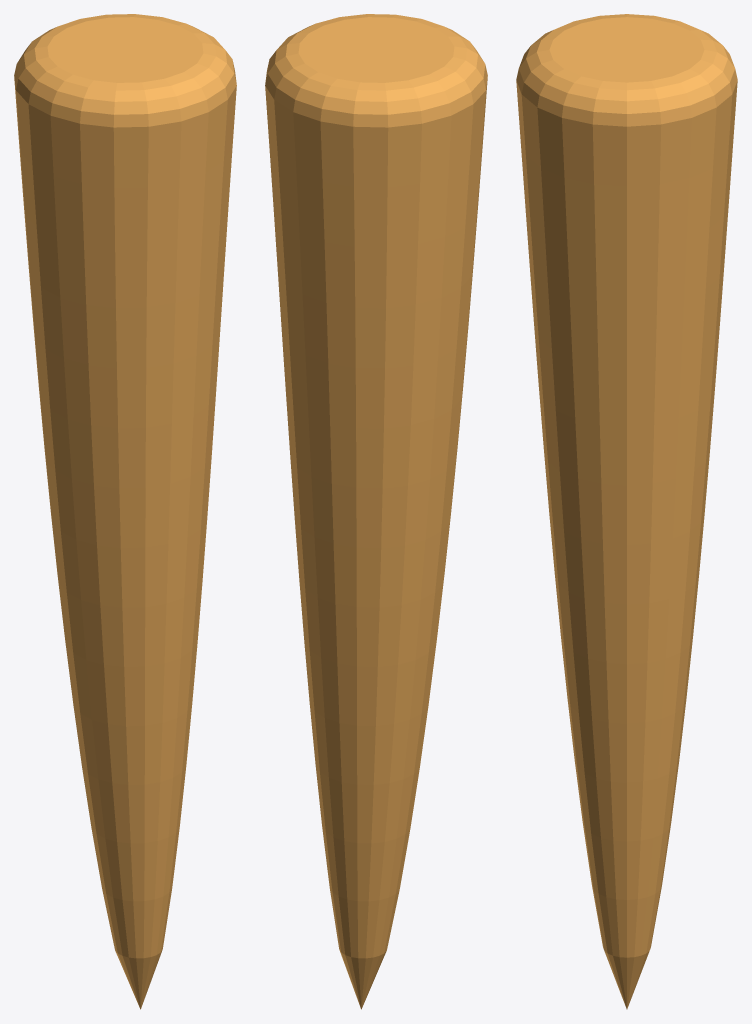
Rendered from carrot_v17.glb.
3 renders of one model, left to right at view 1: azimuth 30°, elevation 25°; view 2: azimuth 150°, elevation 25°; view 3: azimuth 270°, elevation 25°, orthographic.
Parts seen in each view (by area): view 1: root; view 2: root; view 3: root.
Boxes of the visible parts, x1=… form: root: x1=14, y1=14, x2=236, y2=1009; root: x1=265, y1=14, x2=487, y2=1009; root: x1=516, y1=14, x2=737, y2=1009.
Bounding box in the file's own units: 0.0371 × 0.1761 × 0.0371.
